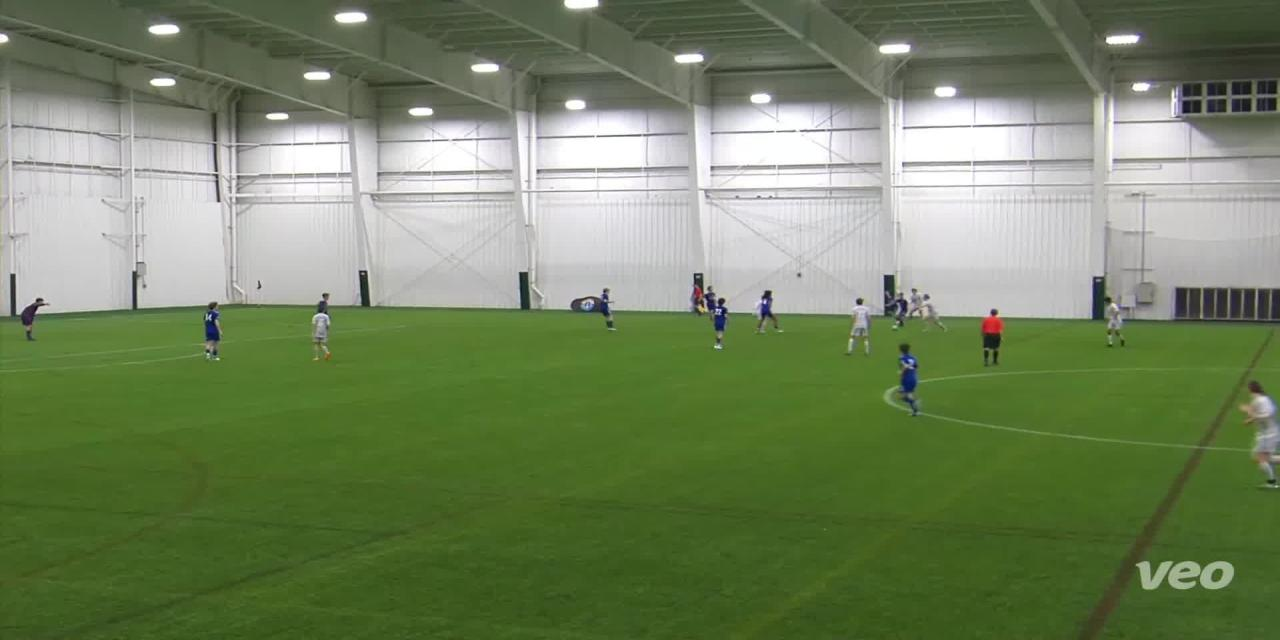sports ball: (888, 321, 902, 334)
